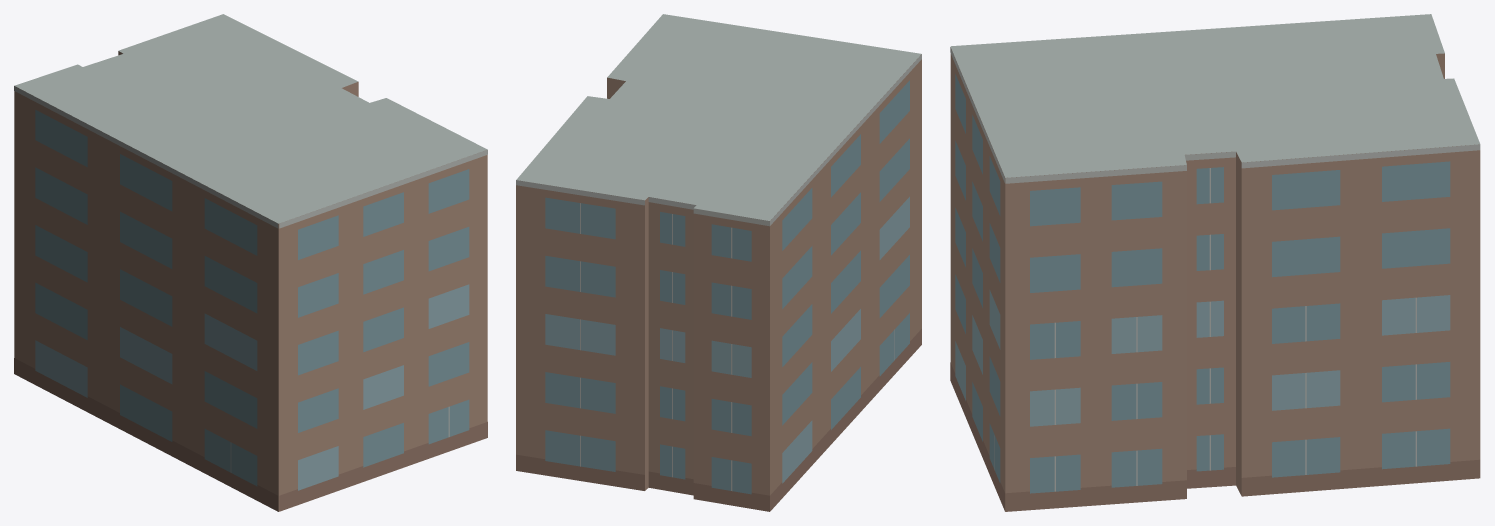
Rendered from survey-upis-32841122.glb.
3 views of the same model, side by side, from view 1: azimuth 30°, elevation 25°; view 2: azimuth 150°, elevation 25°; view 3: azimuth 270°, elevation 25° (orthographic). The views are drawn at different scales.
Parts seen in each view (by area): view 1: survey-upis-32841122.tmp; view 2: survey-upis-32841122.tmp; view 3: survey-upis-32841122.tmp.
Part boxes in pixels (left/top/right/bottom): survey-upis-32841122.tmp: left=14, top=14, right=487, bottom=511; survey-upis-32841122.tmp: left=516, top=14, right=921, bottom=511; survey-upis-32841122.tmp: left=950, top=14, right=1480, bottom=511.
Bounding box in the file's own units: 14.48 × 13.75 × 19.78.
